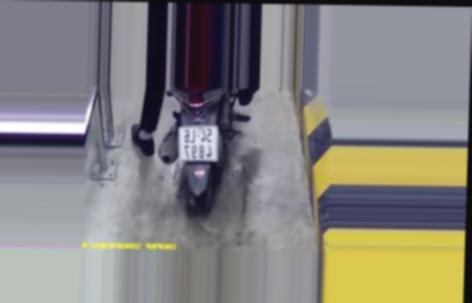License_Plate: (175, 122, 222, 165)
